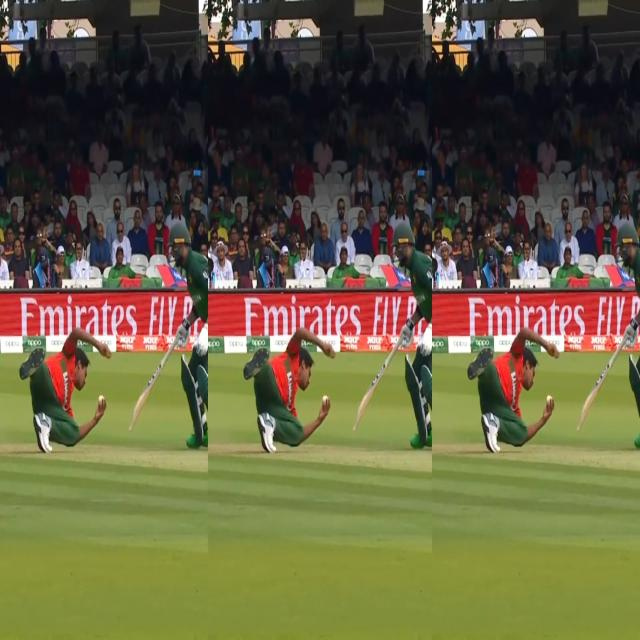ball: (540, 392, 561, 412), (95, 392, 108, 412), (321, 392, 330, 410)
